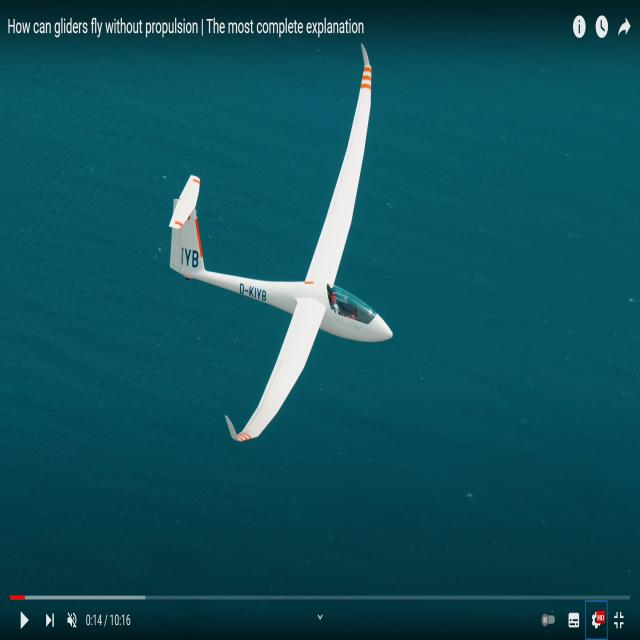iha: (170, 53, 393, 439)
